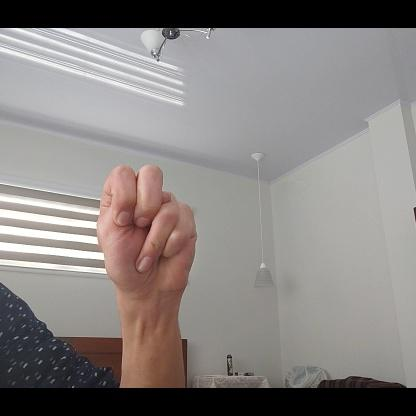N: (95, 162, 199, 305)
